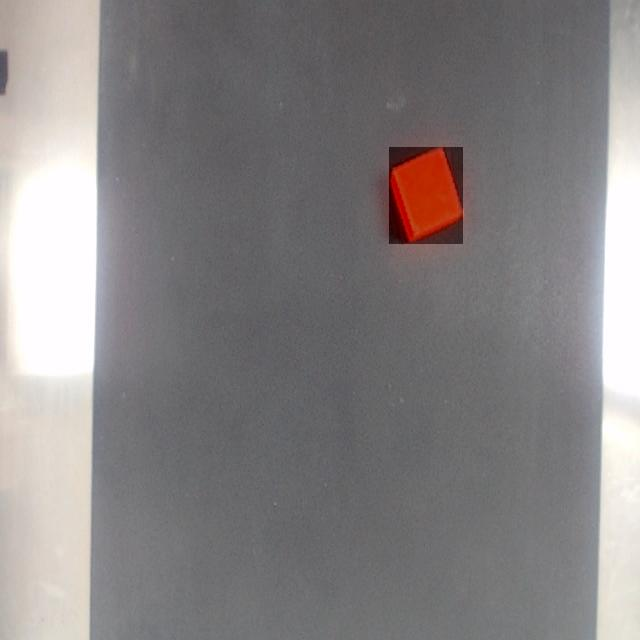Rojo: (389, 147, 463, 244)
